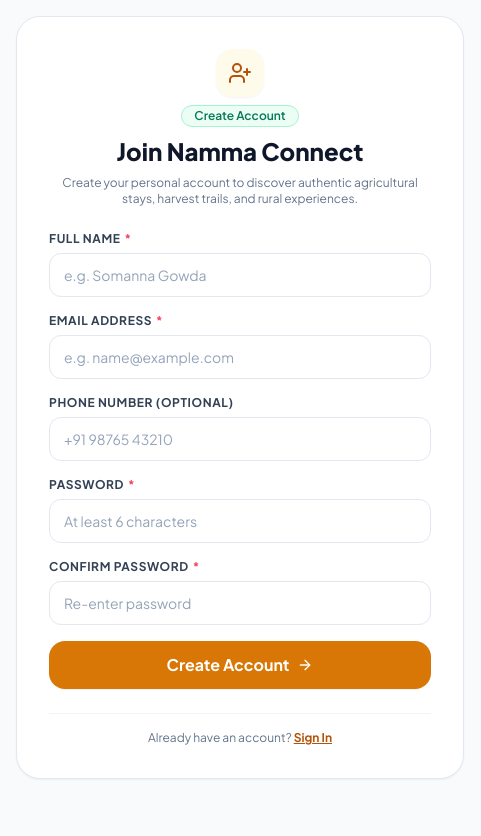
Test case: Frontend Authentication & RBAC Component Suite › validates password mismatch on RegisterPage
Type "Ananya Rao" into the field labelled "Full Name*".
click(240, 275); type("Ananya Rao")  # box [49,253,431,297]
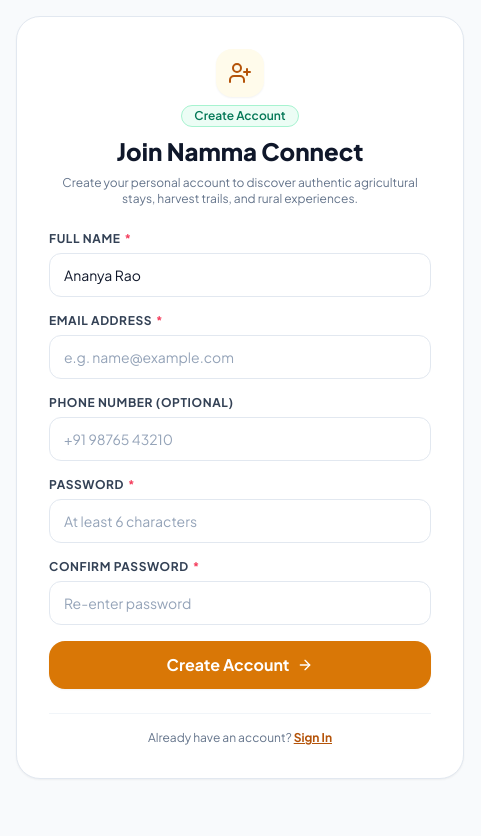
Type "ananya@example.com" into the field labelled "Email Address*".
click(240, 357); type("ananya@example.com")  # box [49,335,431,379]
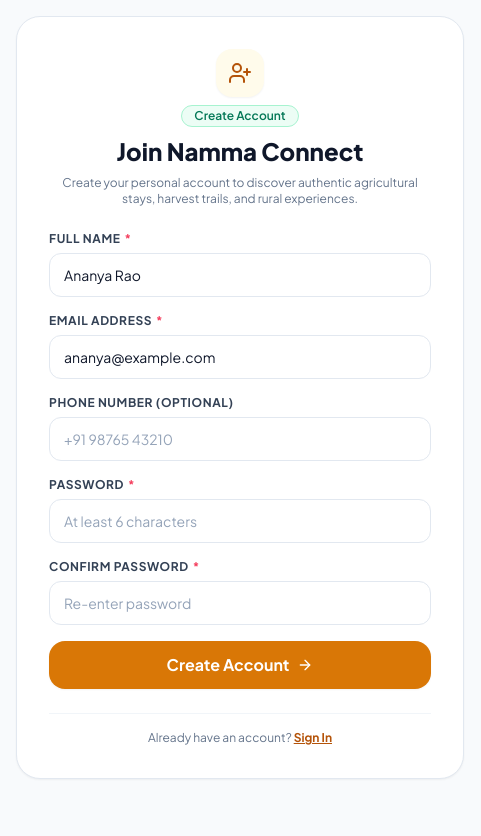
Type "Password123" into the password field with placeholder "At least 6 characters".
click(240, 521); type("Password123")  # box [49,499,431,543]
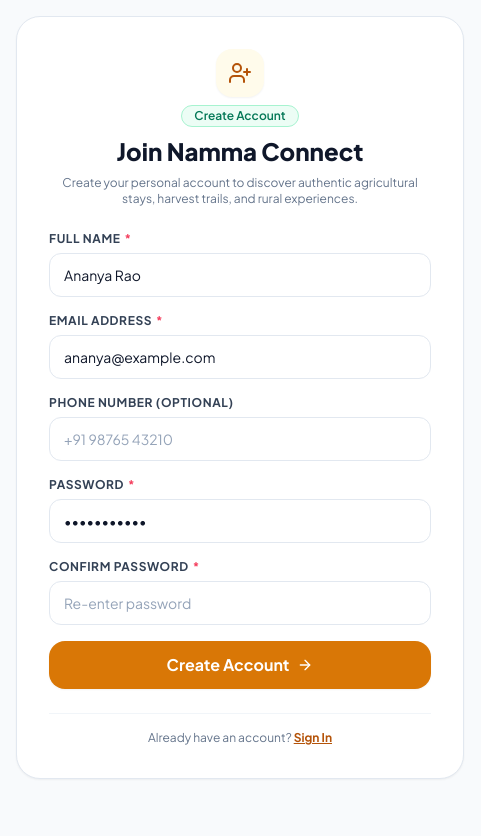
Type "Mismatch456" into the password field with placeholder "Re-enter password".
click(240, 603); type("Mismatch456")  # box [49,581,431,625]
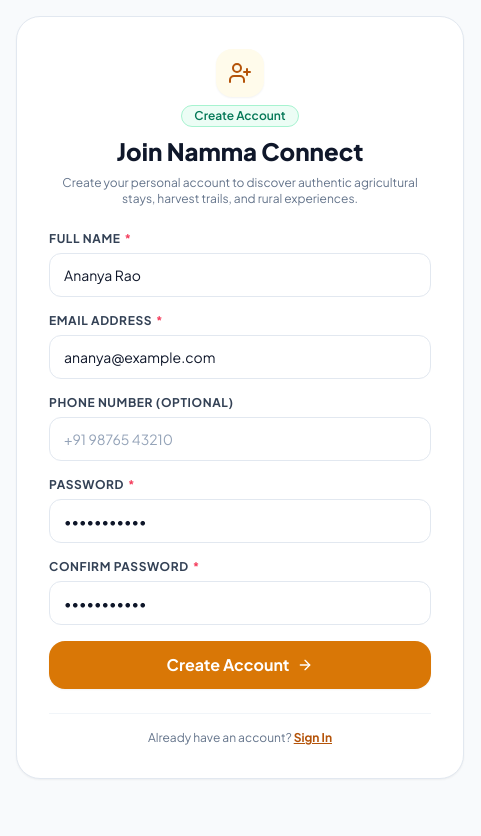
Click the button "Create Account".
click(240, 665)  # box [49,641,431,689]
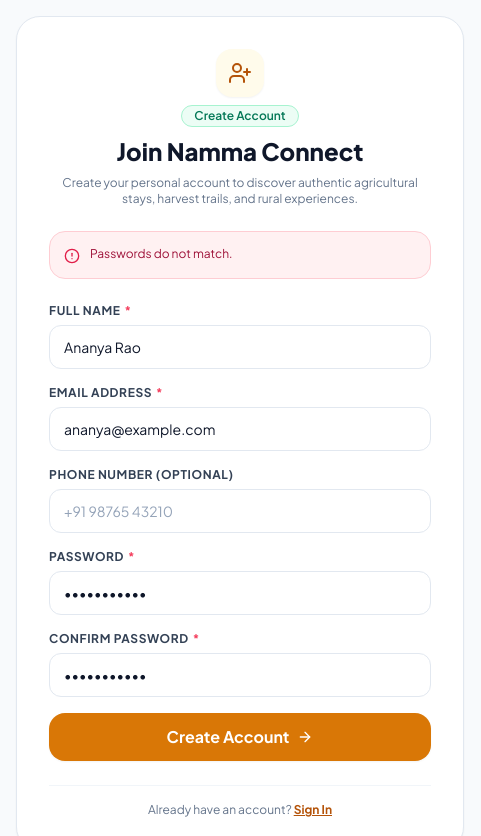
Now the text "Passwords do not match." is shown, box [90,246,232,262]
